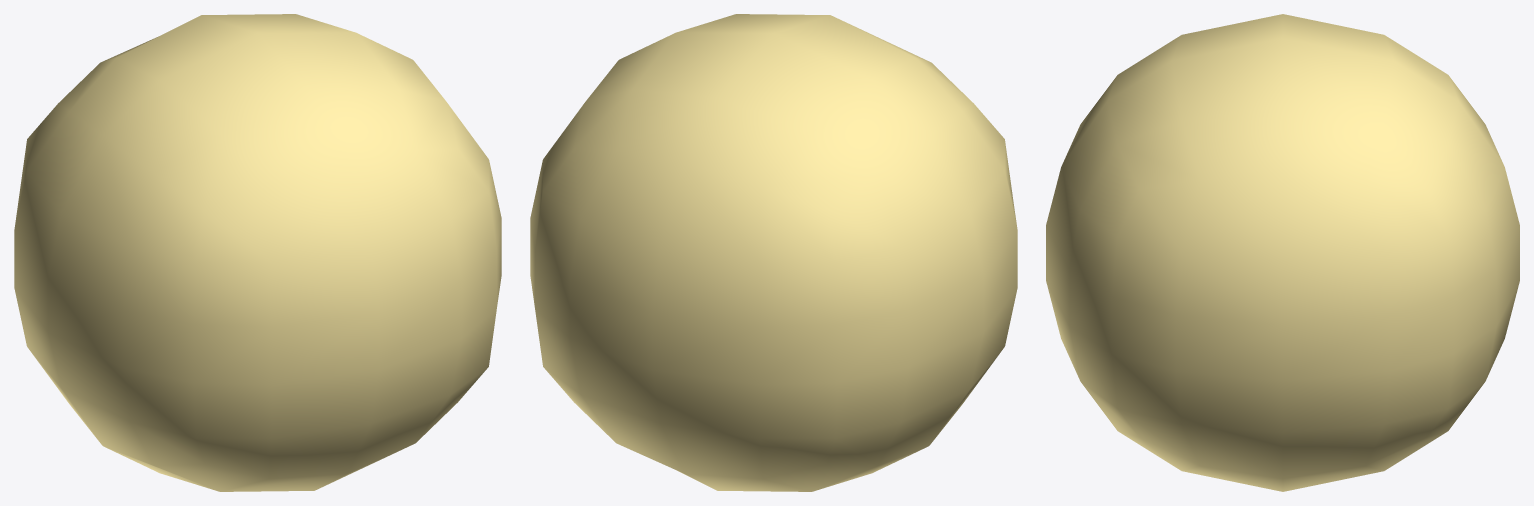
The model's file is SM_Planet_Sun.fbx.
3 renders of one model, left to right at view 1: azimuth 30°, elevation 25°; view 2: azimuth 150°, elevation 25°; view 3: azimuth 270°, elevation 25°, orthographic. The views are drawn at different scales.
Visible parts, largest first — view 1: SM_Planet_Sun; view 2: SM_Planet_Sun; view 3: SM_Planet_Sun.
Part boxes in pixels (x1,y1,x2,y2): SM_Planet_Sun: (14,14,501,491); SM_Planet_Sun: (530,14,1017,491); SM_Planet_Sun: (1046,14,1519,491).
Bounding box in the file's own units: 100 × 100 × 100.
